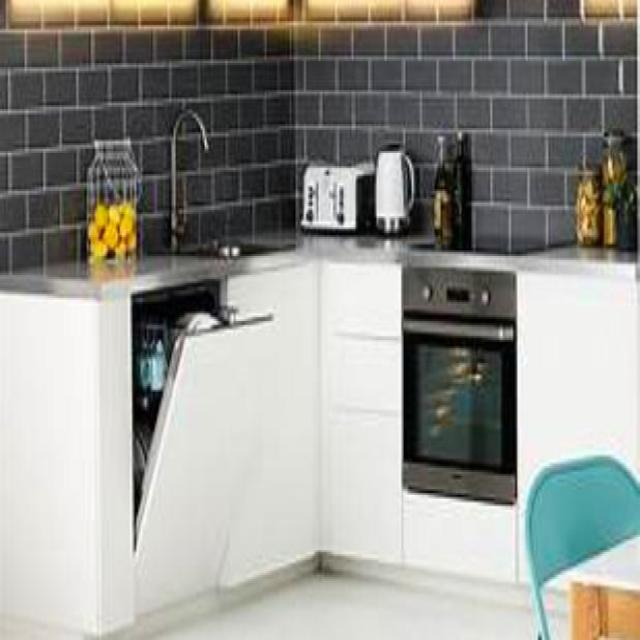dishwasher: (128, 277, 272, 625)
